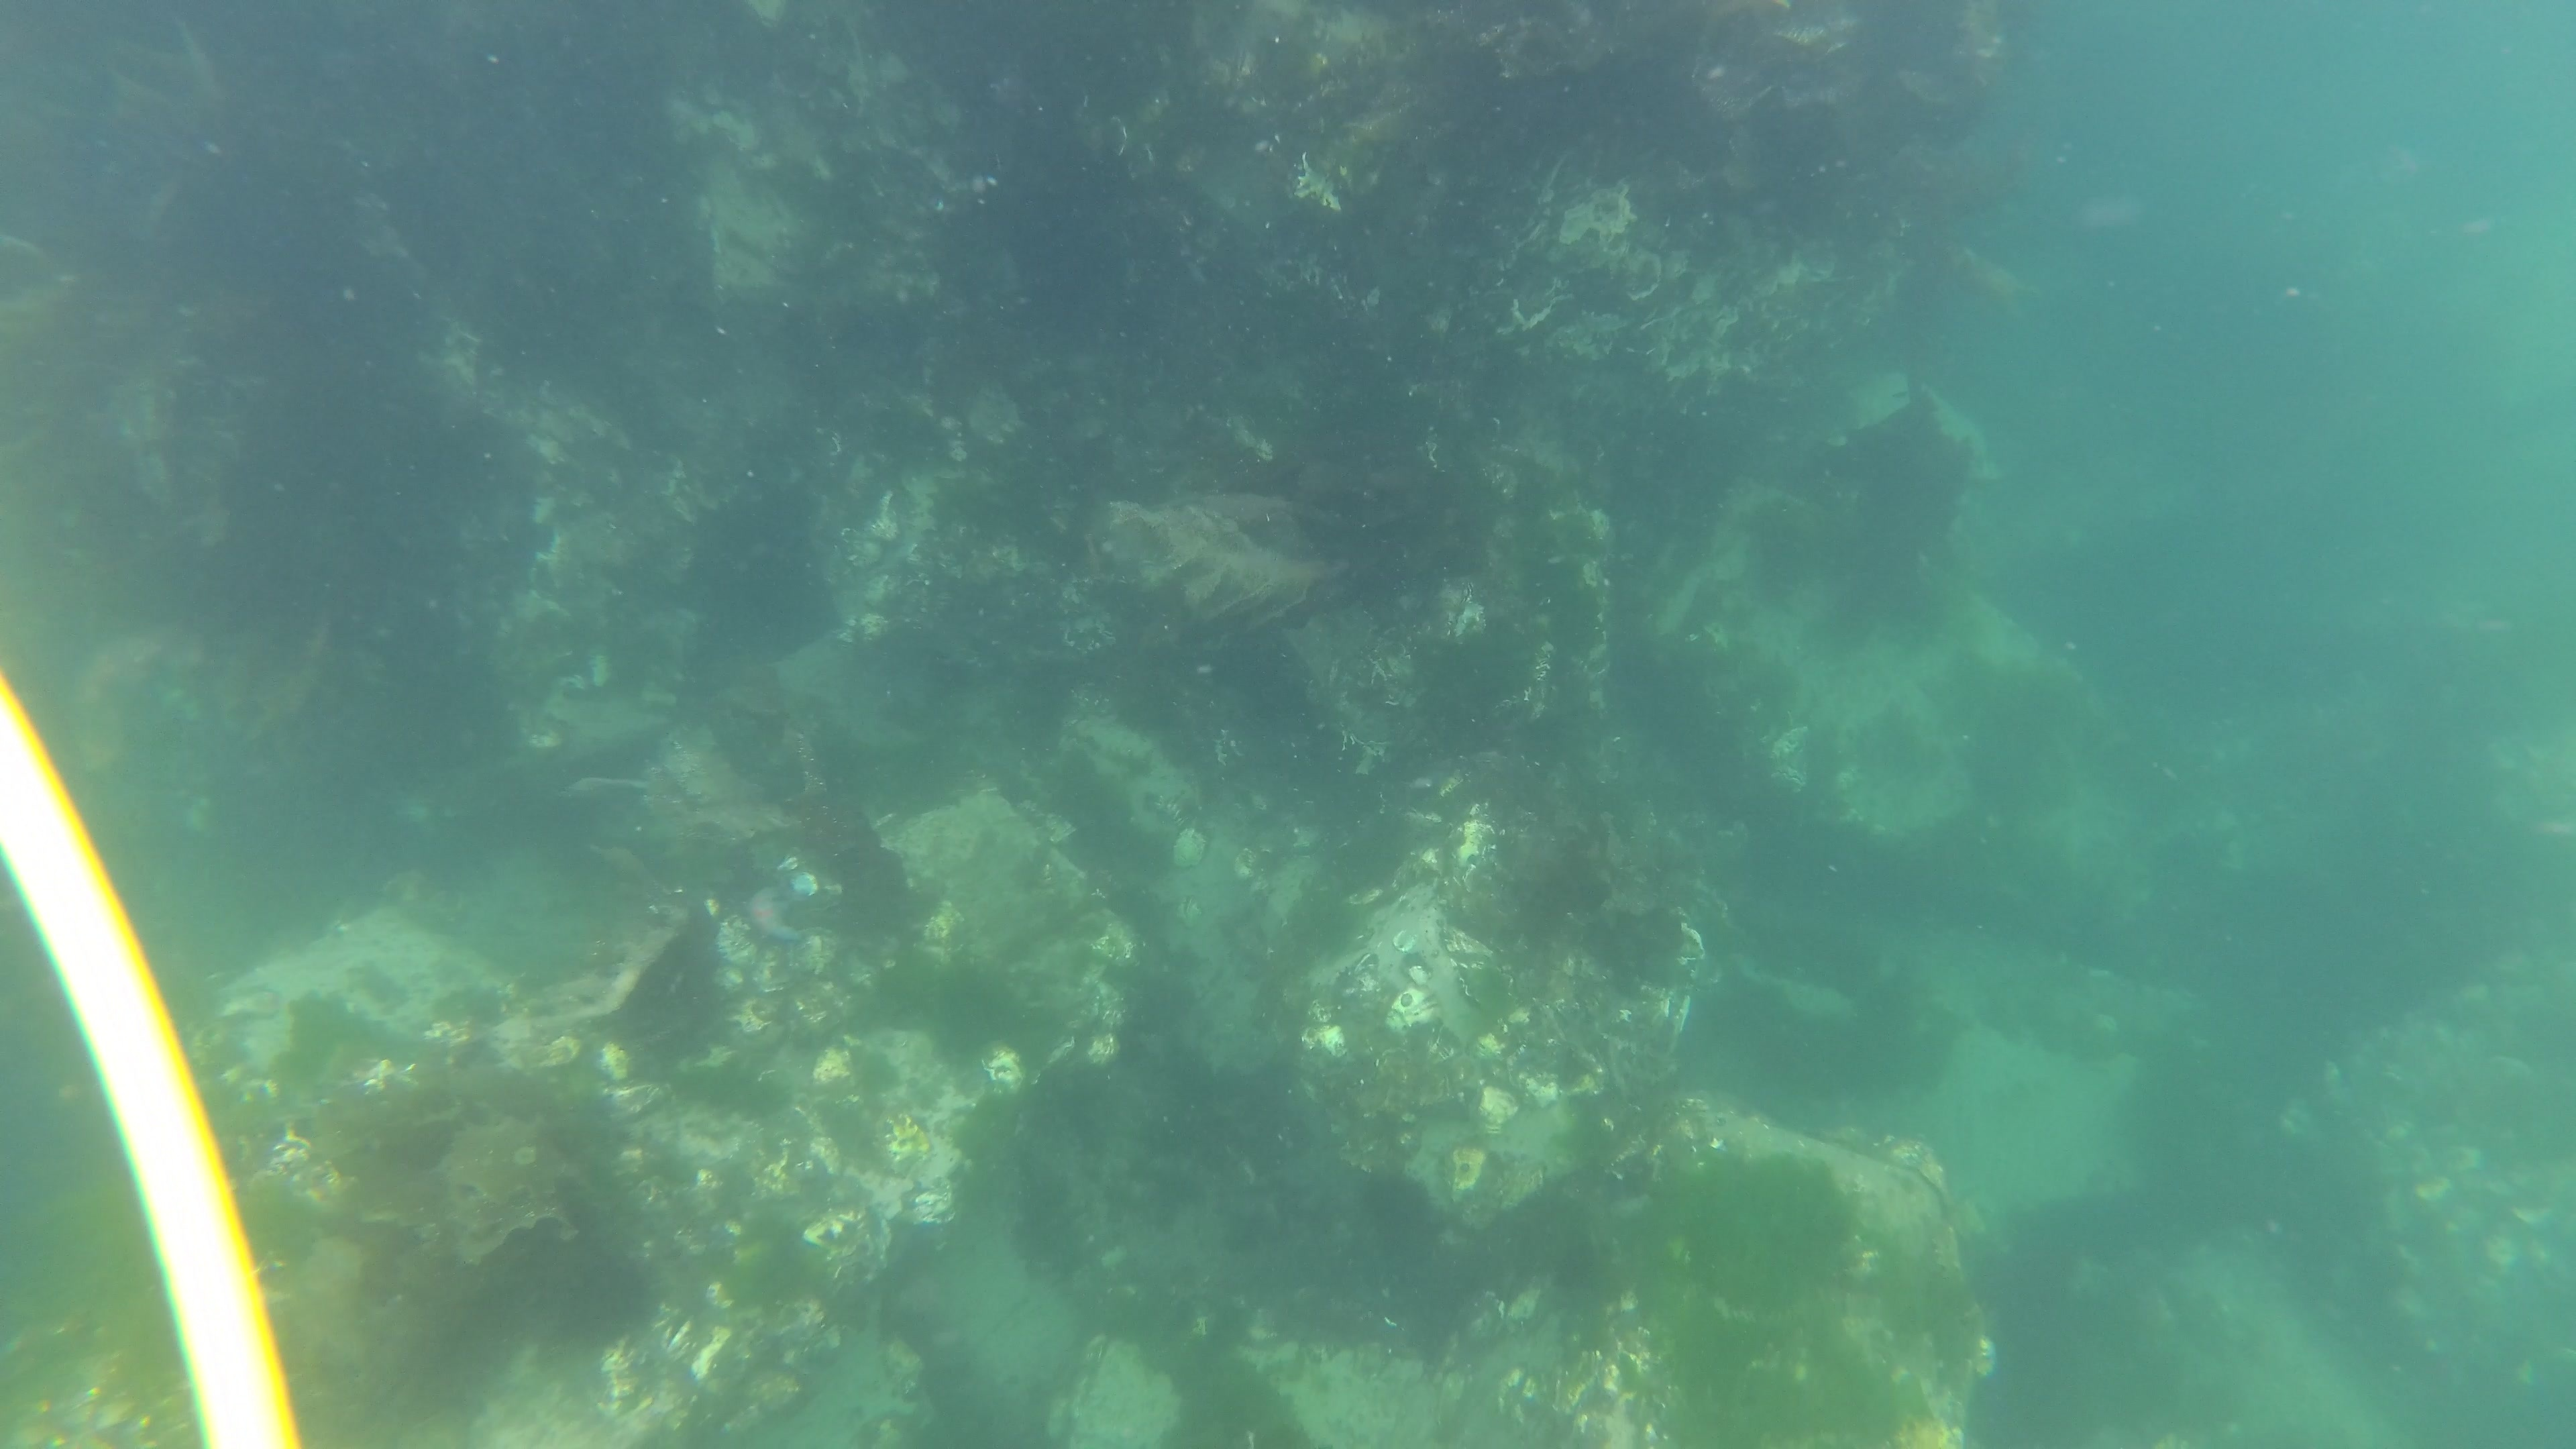starfish: (736, 879, 809, 952)
